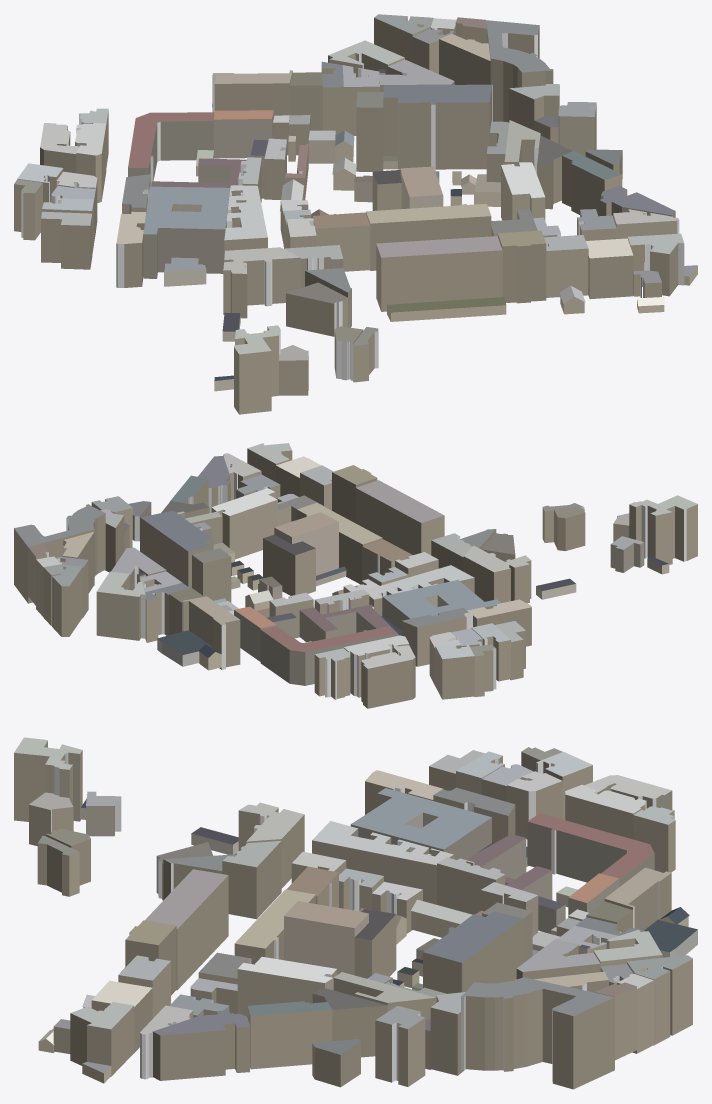
The picture shows the model from 3 angles, top to bottom: view 1: azimuth 30°, elevation 25°; view 2: azimuth 150°, elevation 25°; view 3: azimuth 270°, elevation 25°; orthographic projection. The views are drawn at different scales.
Parts seen in each view (by area): view 1: tuile; view 2: tuile; view 3: tuile.
Boxes of the visible parts, x1,y1,x2,y2 form: tuile: (14, 14, 697, 414); tuile: (14, 443, 697, 708); tuile: (14, 737, 697, 1089).
Size of the model in its own units: 277 by 42.21 by 267.
